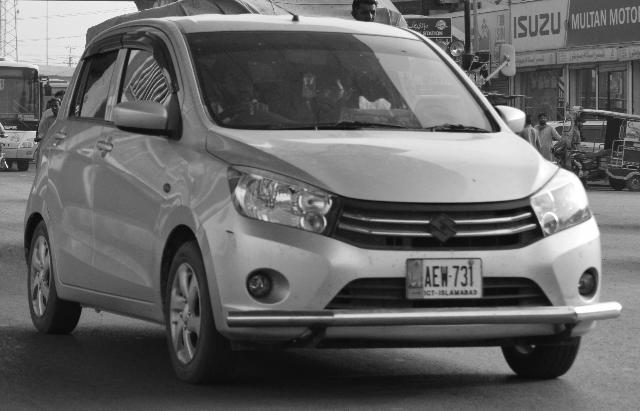Number: (511, 11, 565, 40), (425, 266, 477, 290)
